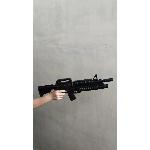Senapan: (36, 72, 114, 102)
